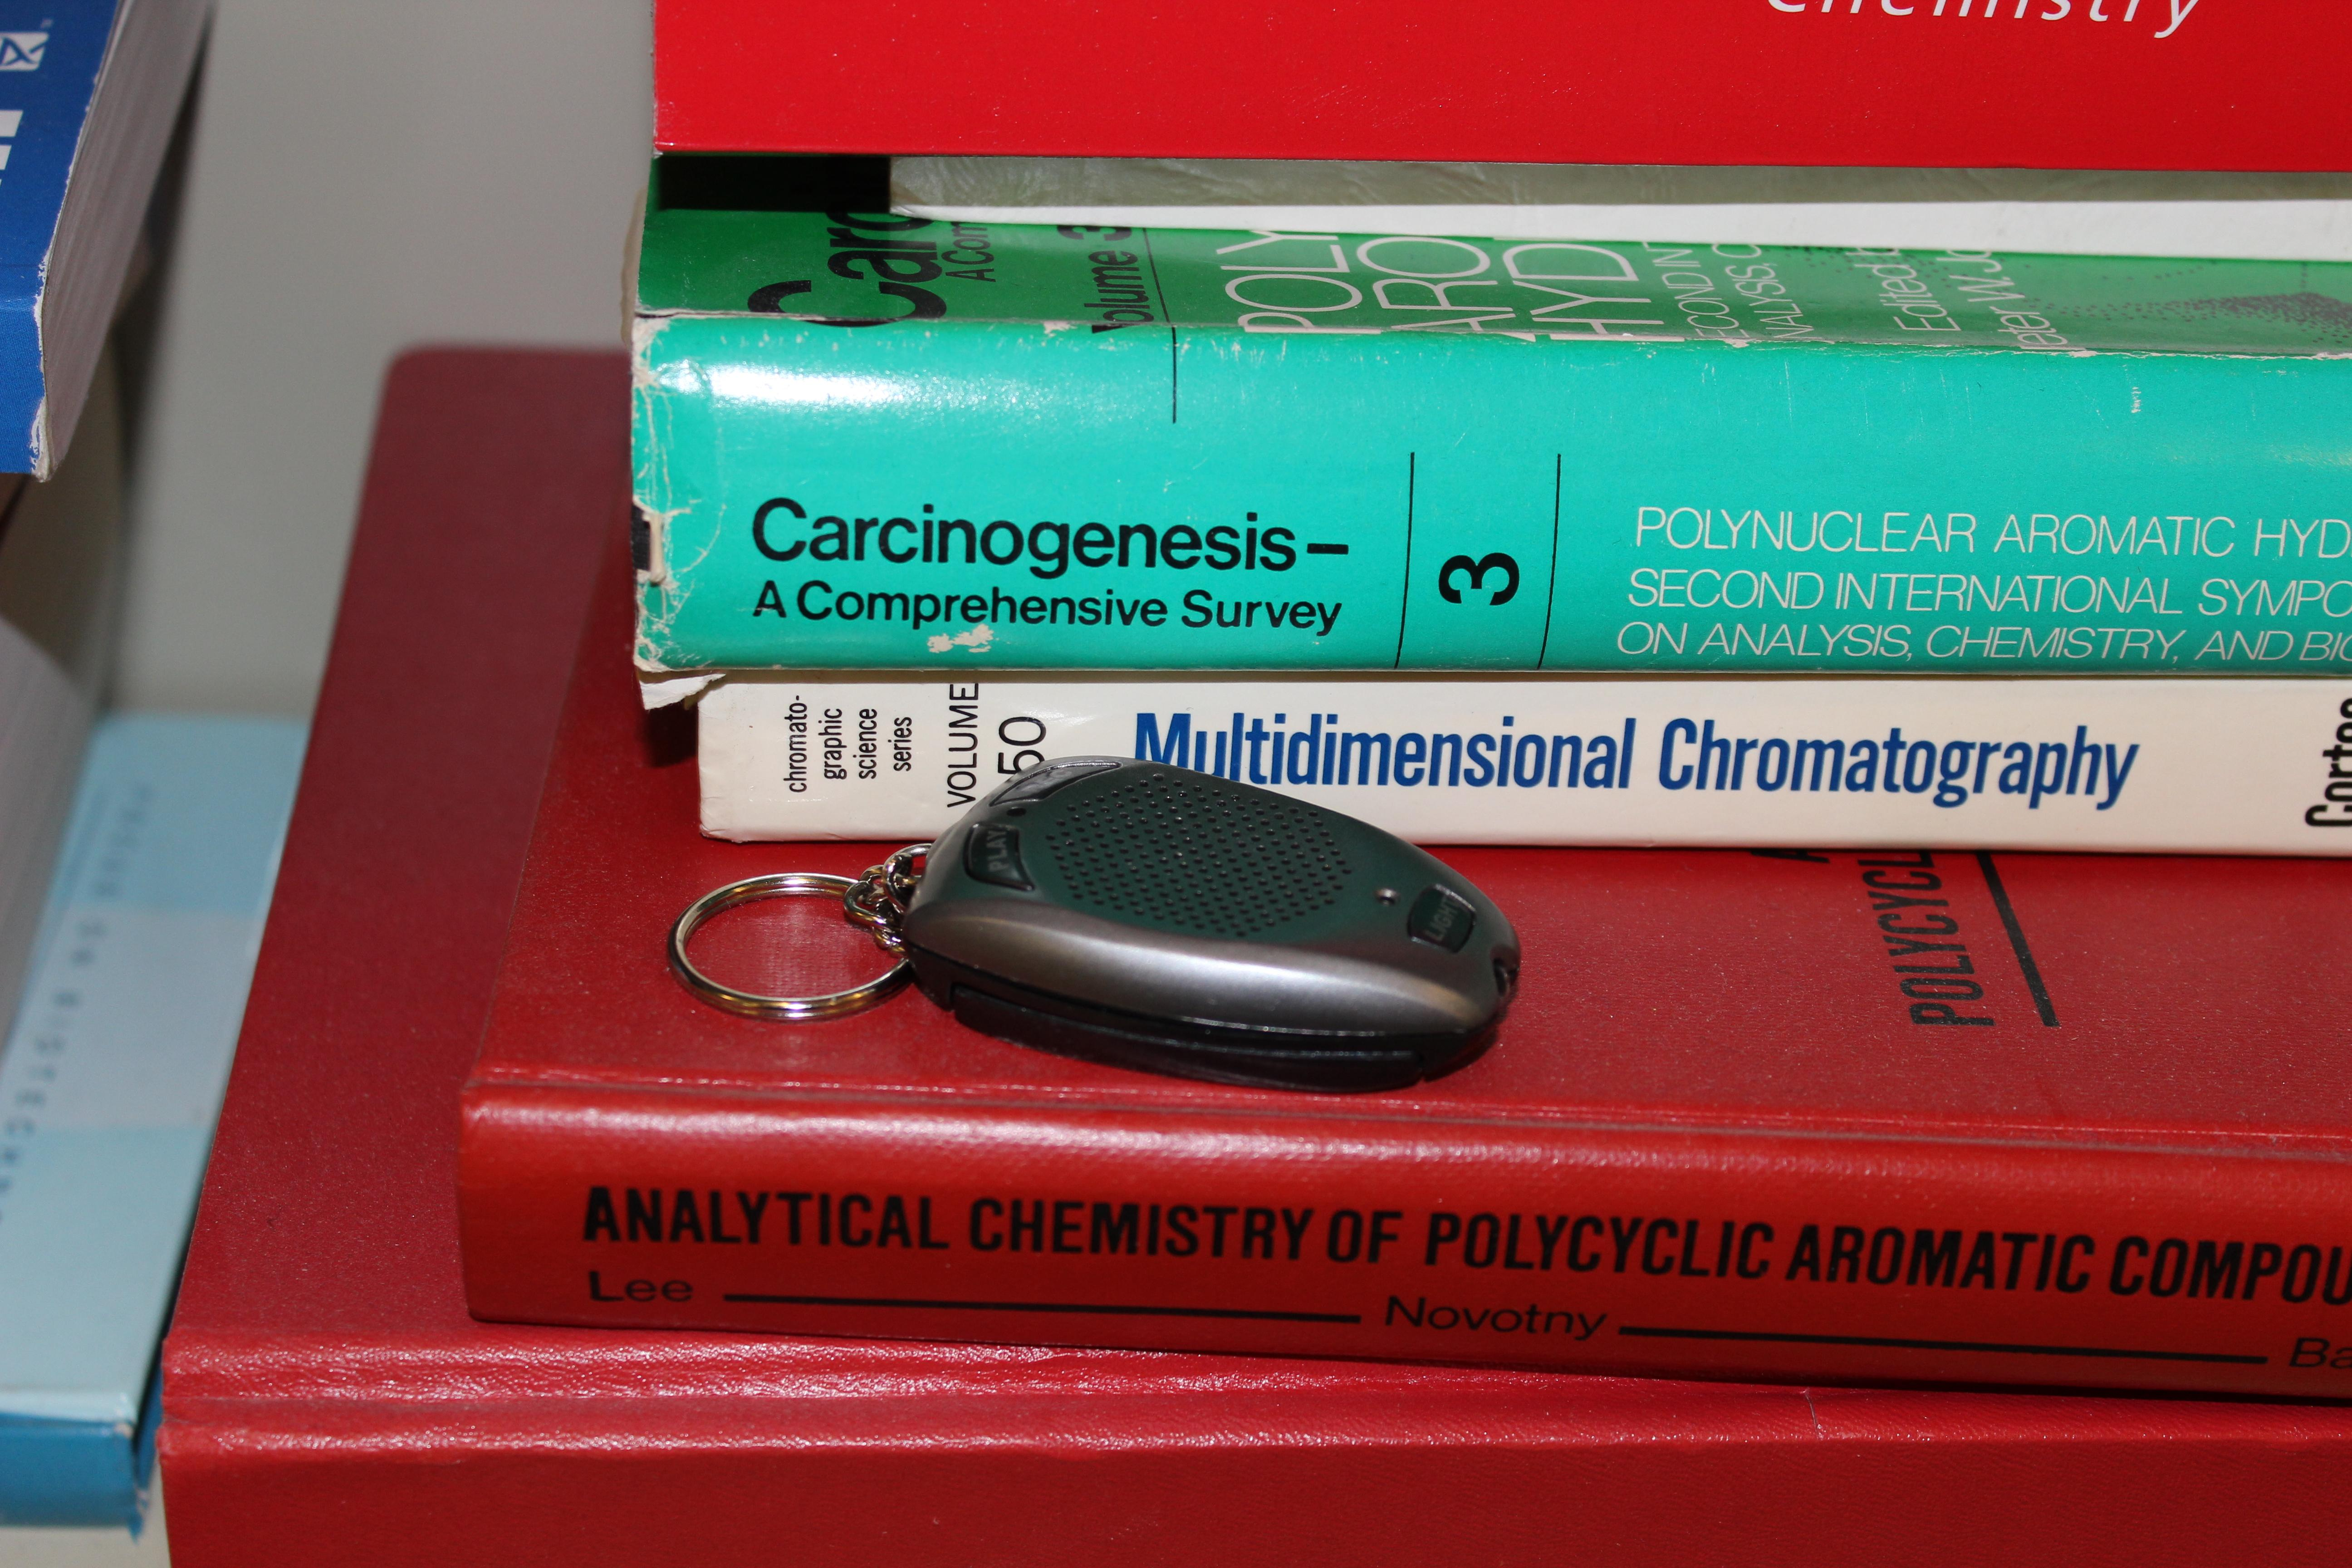voiceRecorder: (625, 712, 1549, 1138)
